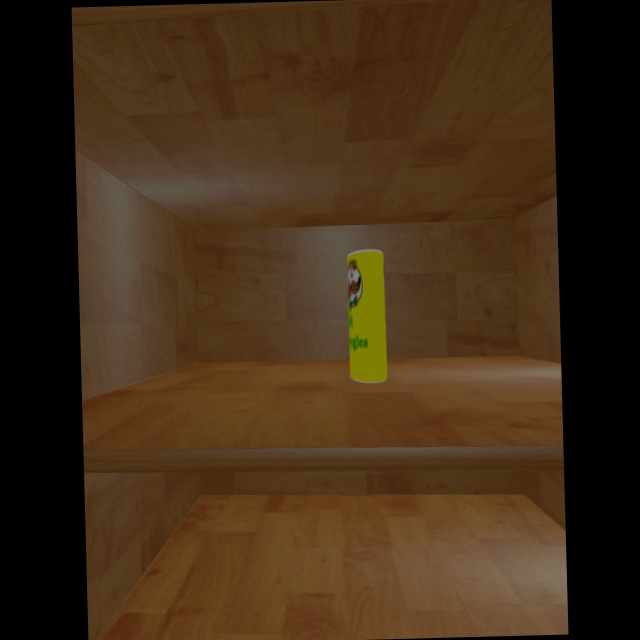chipsdose_gelb: (347, 249, 388, 383)
